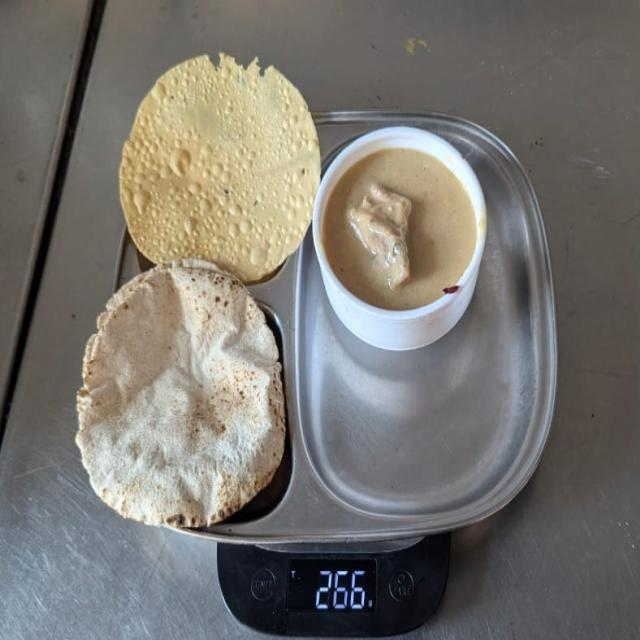Chapati: (73, 270, 287, 528)
Chicken Curry: (324, 140, 487, 326)
Papad: (112, 54, 319, 272)
